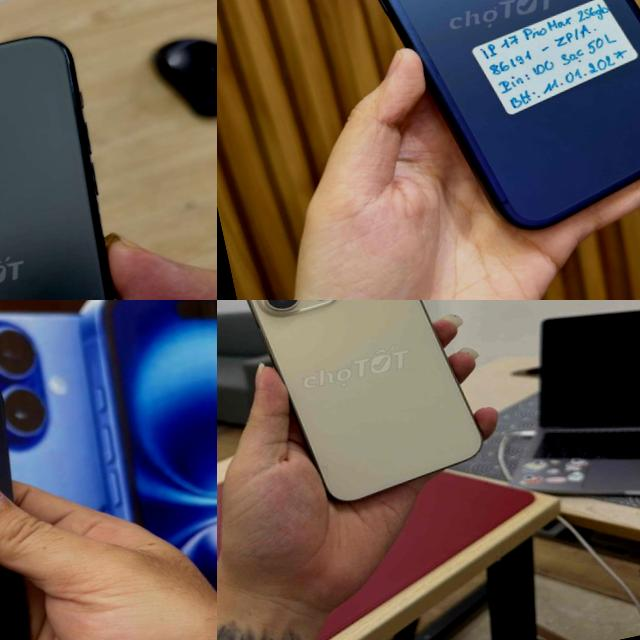gen_11: (0, 22, 174, 300)
gen_14: (229, 300, 494, 522), (0, 305, 92, 640)
gen_17: (310, 0, 640, 263)
